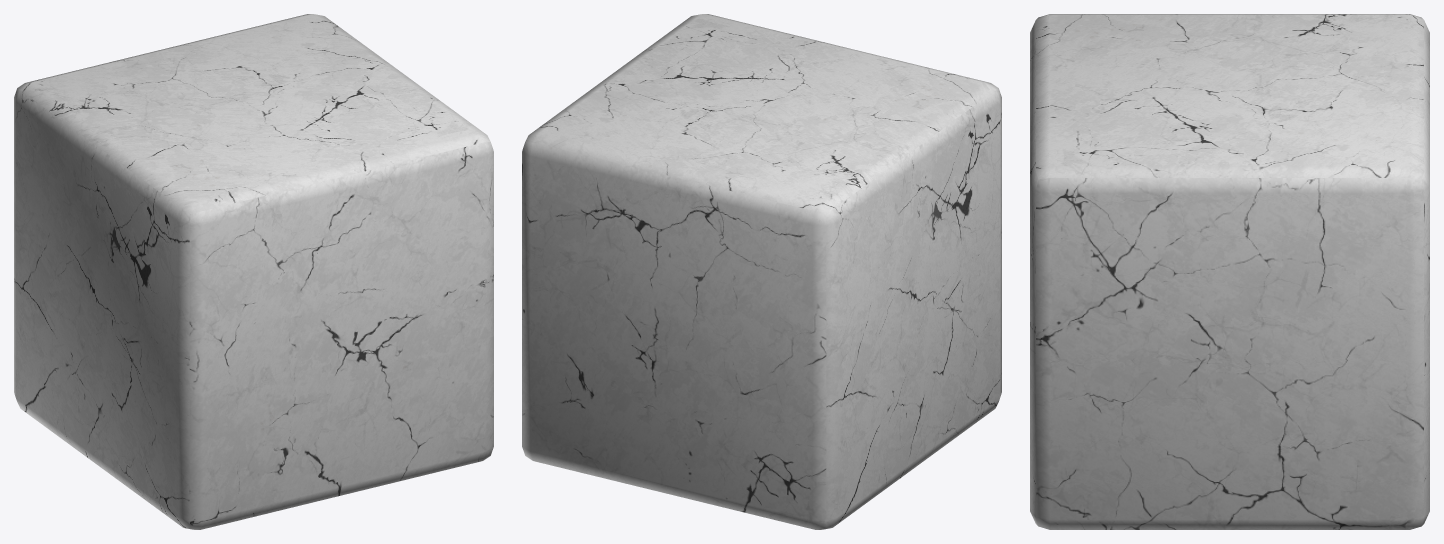
The picture shows the model from 3 angles, left to right: view 1: azimuth 30°, elevation 25°; view 2: azimuth 150°, elevation 25°; view 3: azimuth 270°, elevation 25°; orthographic projection. The views are drawn at different scales.
Visible parts, largest first — view 1: TexturedCube; view 2: TexturedCube; view 3: TexturedCube.
Boxes of the visible parts, x1=… form: TexturedCube: x1=14, y1=14, x2=493, y2=529; TexturedCube: x1=522, y1=14, x2=1001, y2=529; TexturedCube: x1=1030, y1=14, x2=1429, y2=529.
Size of the model in its own units: 0.0418 by 0.0418 by 0.0418.
Materials: 1 (1 with a texture image).
